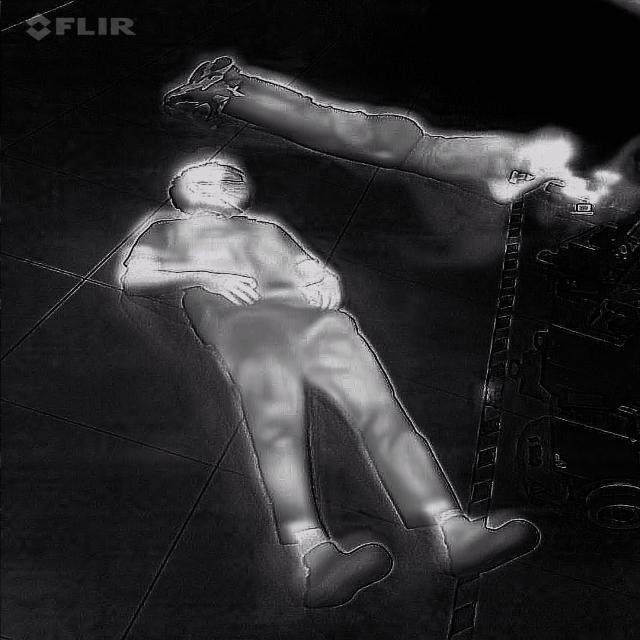Victim: (109, 153, 549, 608), (149, 50, 621, 212)
